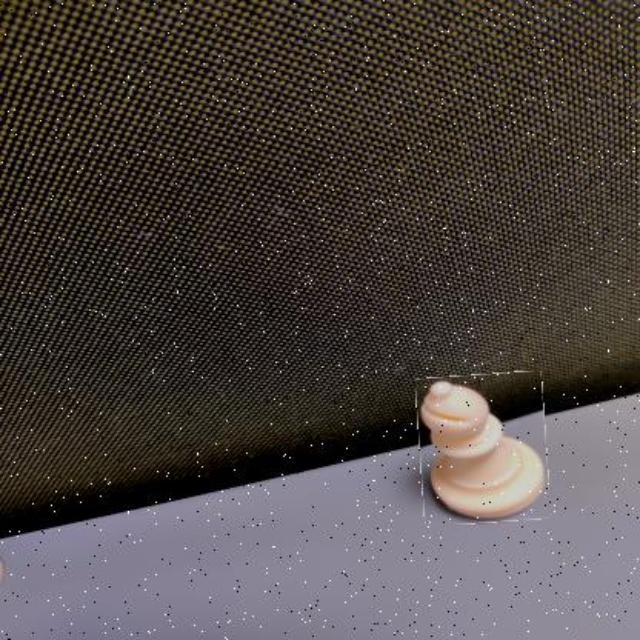white-bishop: (419, 373, 549, 525)
